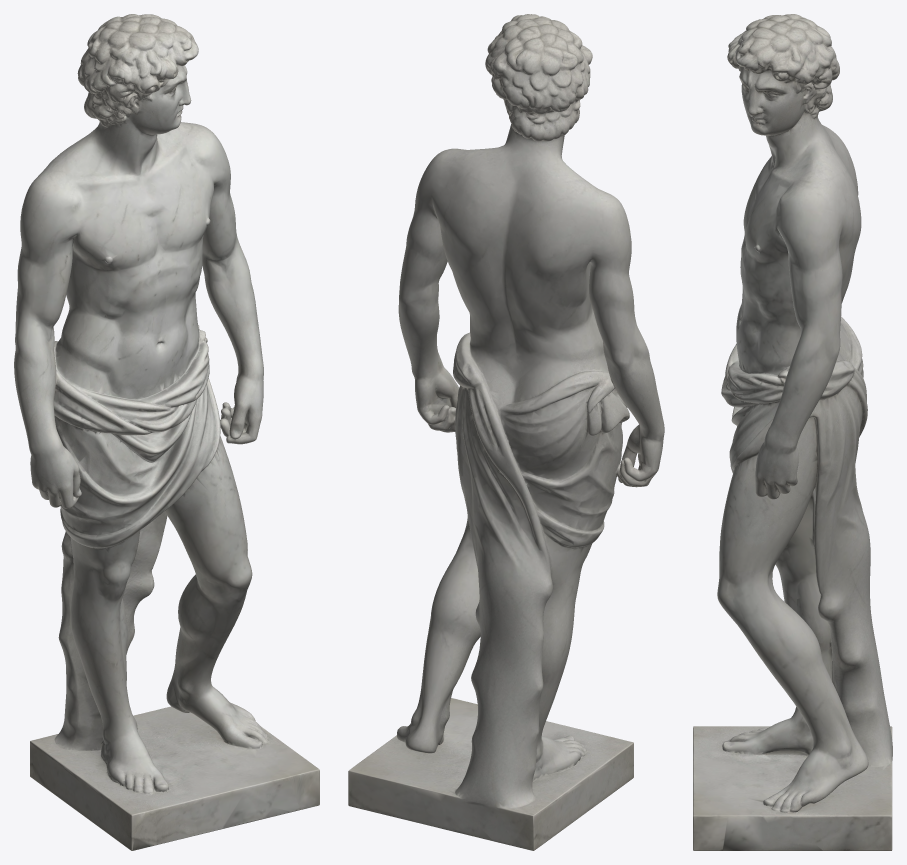
Rendered from statue.glb.
3 views of the same model, side by side, from view 1: azimuth 30°, elevation 25°; view 2: azimuth 150°, elevation 25°; view 3: azimuth 270°, elevation 25° (orthographic). The views are drawn at different scales.
Bounding box in the file's own units: 0.6474 × 1.9 × 0.4503.
Materials: 1 (1 with a texture image).
